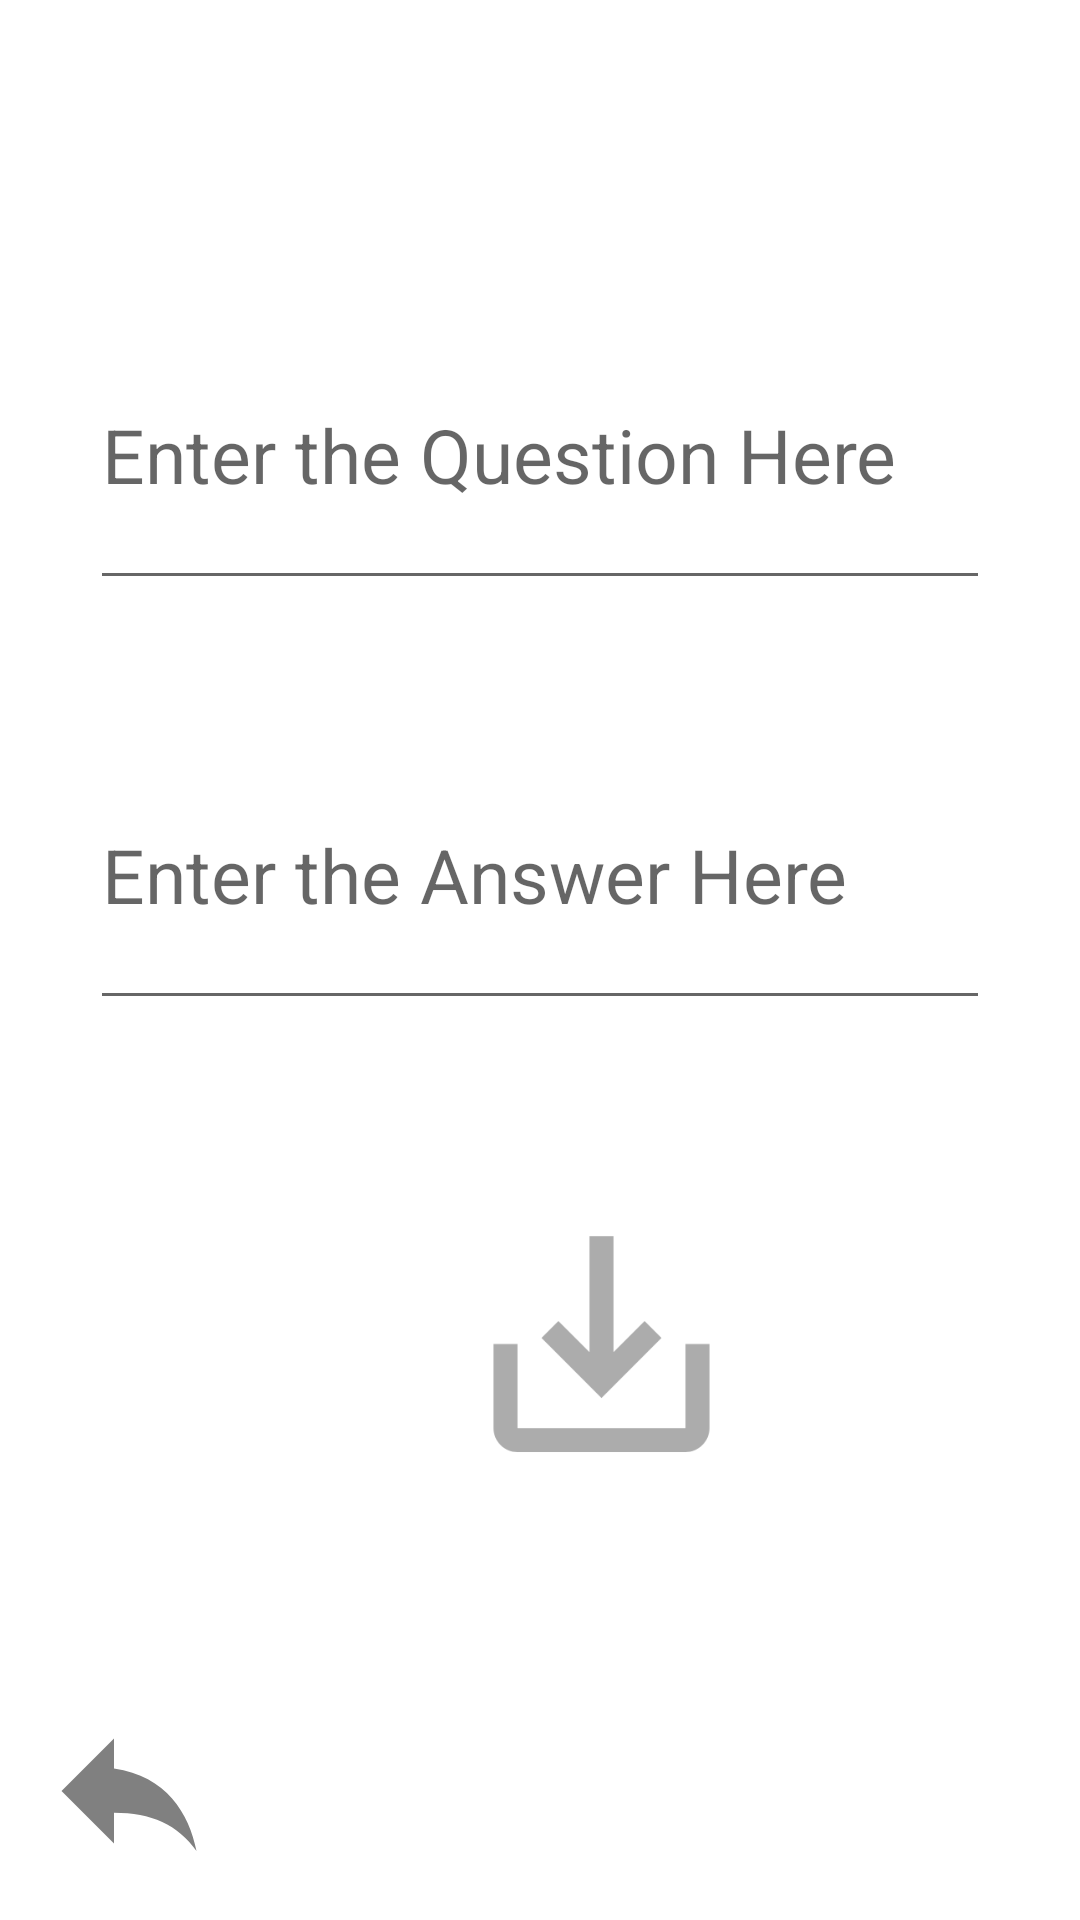

Icon bounding boxes for this 1080px x 1920px phone screenshot, format (x1, y1, x2, y2):
reply: (62, 1739, 197, 1851)
save: (493, 1236, 710, 1452)
